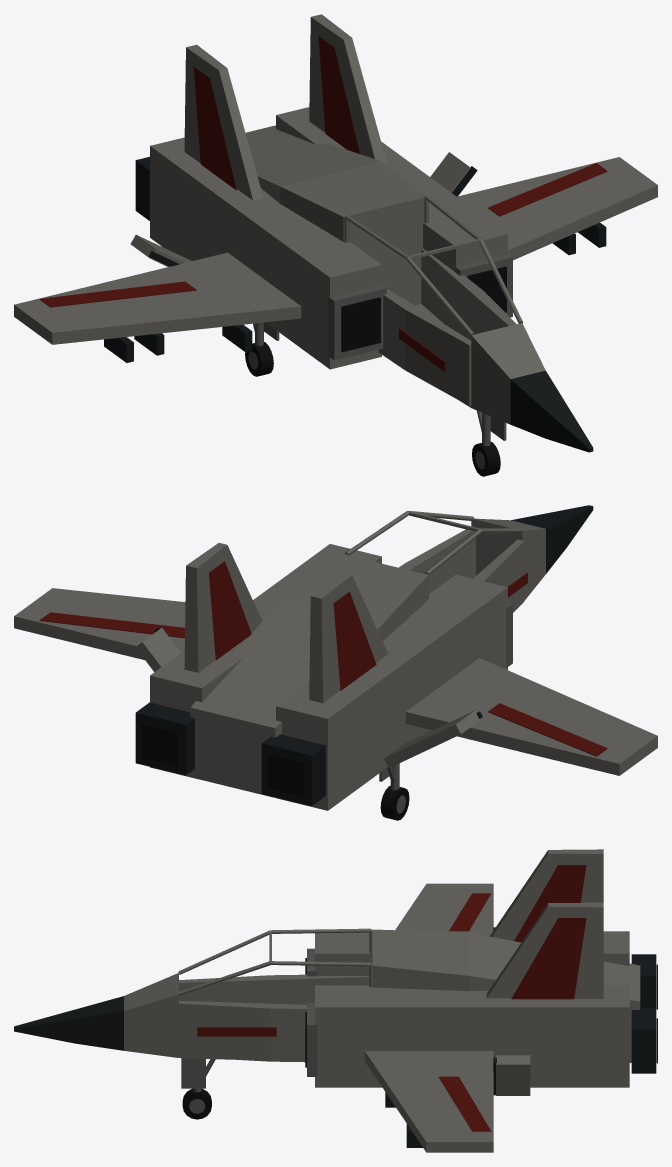
3 views of the same model, one above another, from view 1: azimuth 30°, elevation 25°; view 2: azimuth 150°, elevation 25°; view 3: azimuth 270°, elevation 25° (orthographic). The views are drawn at different scales.
Parts seen in each view (by area): view 1: jet-a-painted, flap-right-painted, flap-left-painted, gear-wheel-nose-0-0-painted, gear-wheel-left-0-0-painted; view 2: jet-a-painted, flap-left-painted, flap-right-painted, gear-wheel-left-0-0-painted; view 3: jet-a-painted, flap-right-painted, landing-gear-nose-painted, gear-wheel-nose-0-0-painted.
Boxes of the visible parts, bbox=[...] form: jet-a-painted: bbox=[14, 14, 657, 452]; flap-right-painted: bbox=[430, 152, 477, 196]; flap-left-painted: bbox=[130, 234, 191, 266]; gear-wheel-nose-0-0-painted: bbox=[472, 442, 500, 476]; gear-wheel-left-0-0-painted: bbox=[245, 342, 273, 376]; jet-a-painted: bbox=[14, 505, 657, 810]; flap-left-painted: bbox=[384, 710, 482, 767]; flap-right-painted: bbox=[135, 627, 180, 671]; gear-wheel-left-0-0-painted: bbox=[380, 785, 409, 820]; jet-a-painted: bbox=[14, 849, 657, 1152]; flap-right-painted: bbox=[493, 1055, 530, 1095]; landing-gear-nose-painted: bbox=[181, 1058, 215, 1092]; gear-wheel-nose-0-0-painted: bbox=[182, 1088, 211, 1119].
Size of the model in its own units: 69.91 by 30.13 by 73.68.
